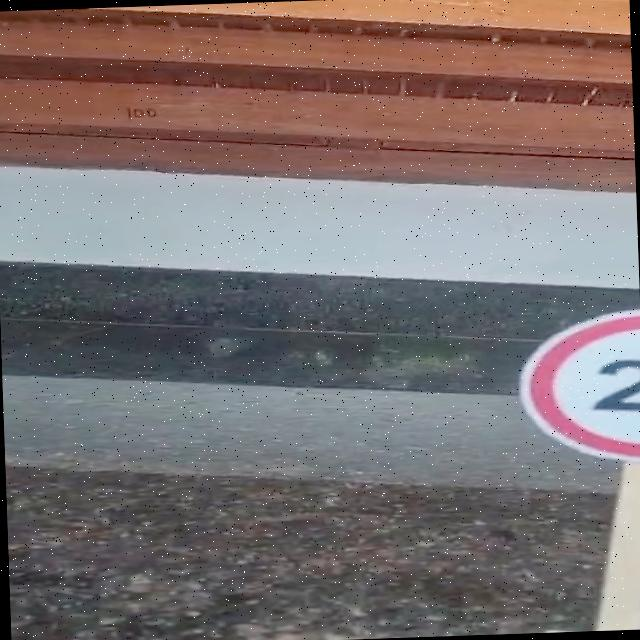Speed20: (505, 296, 640, 472)
